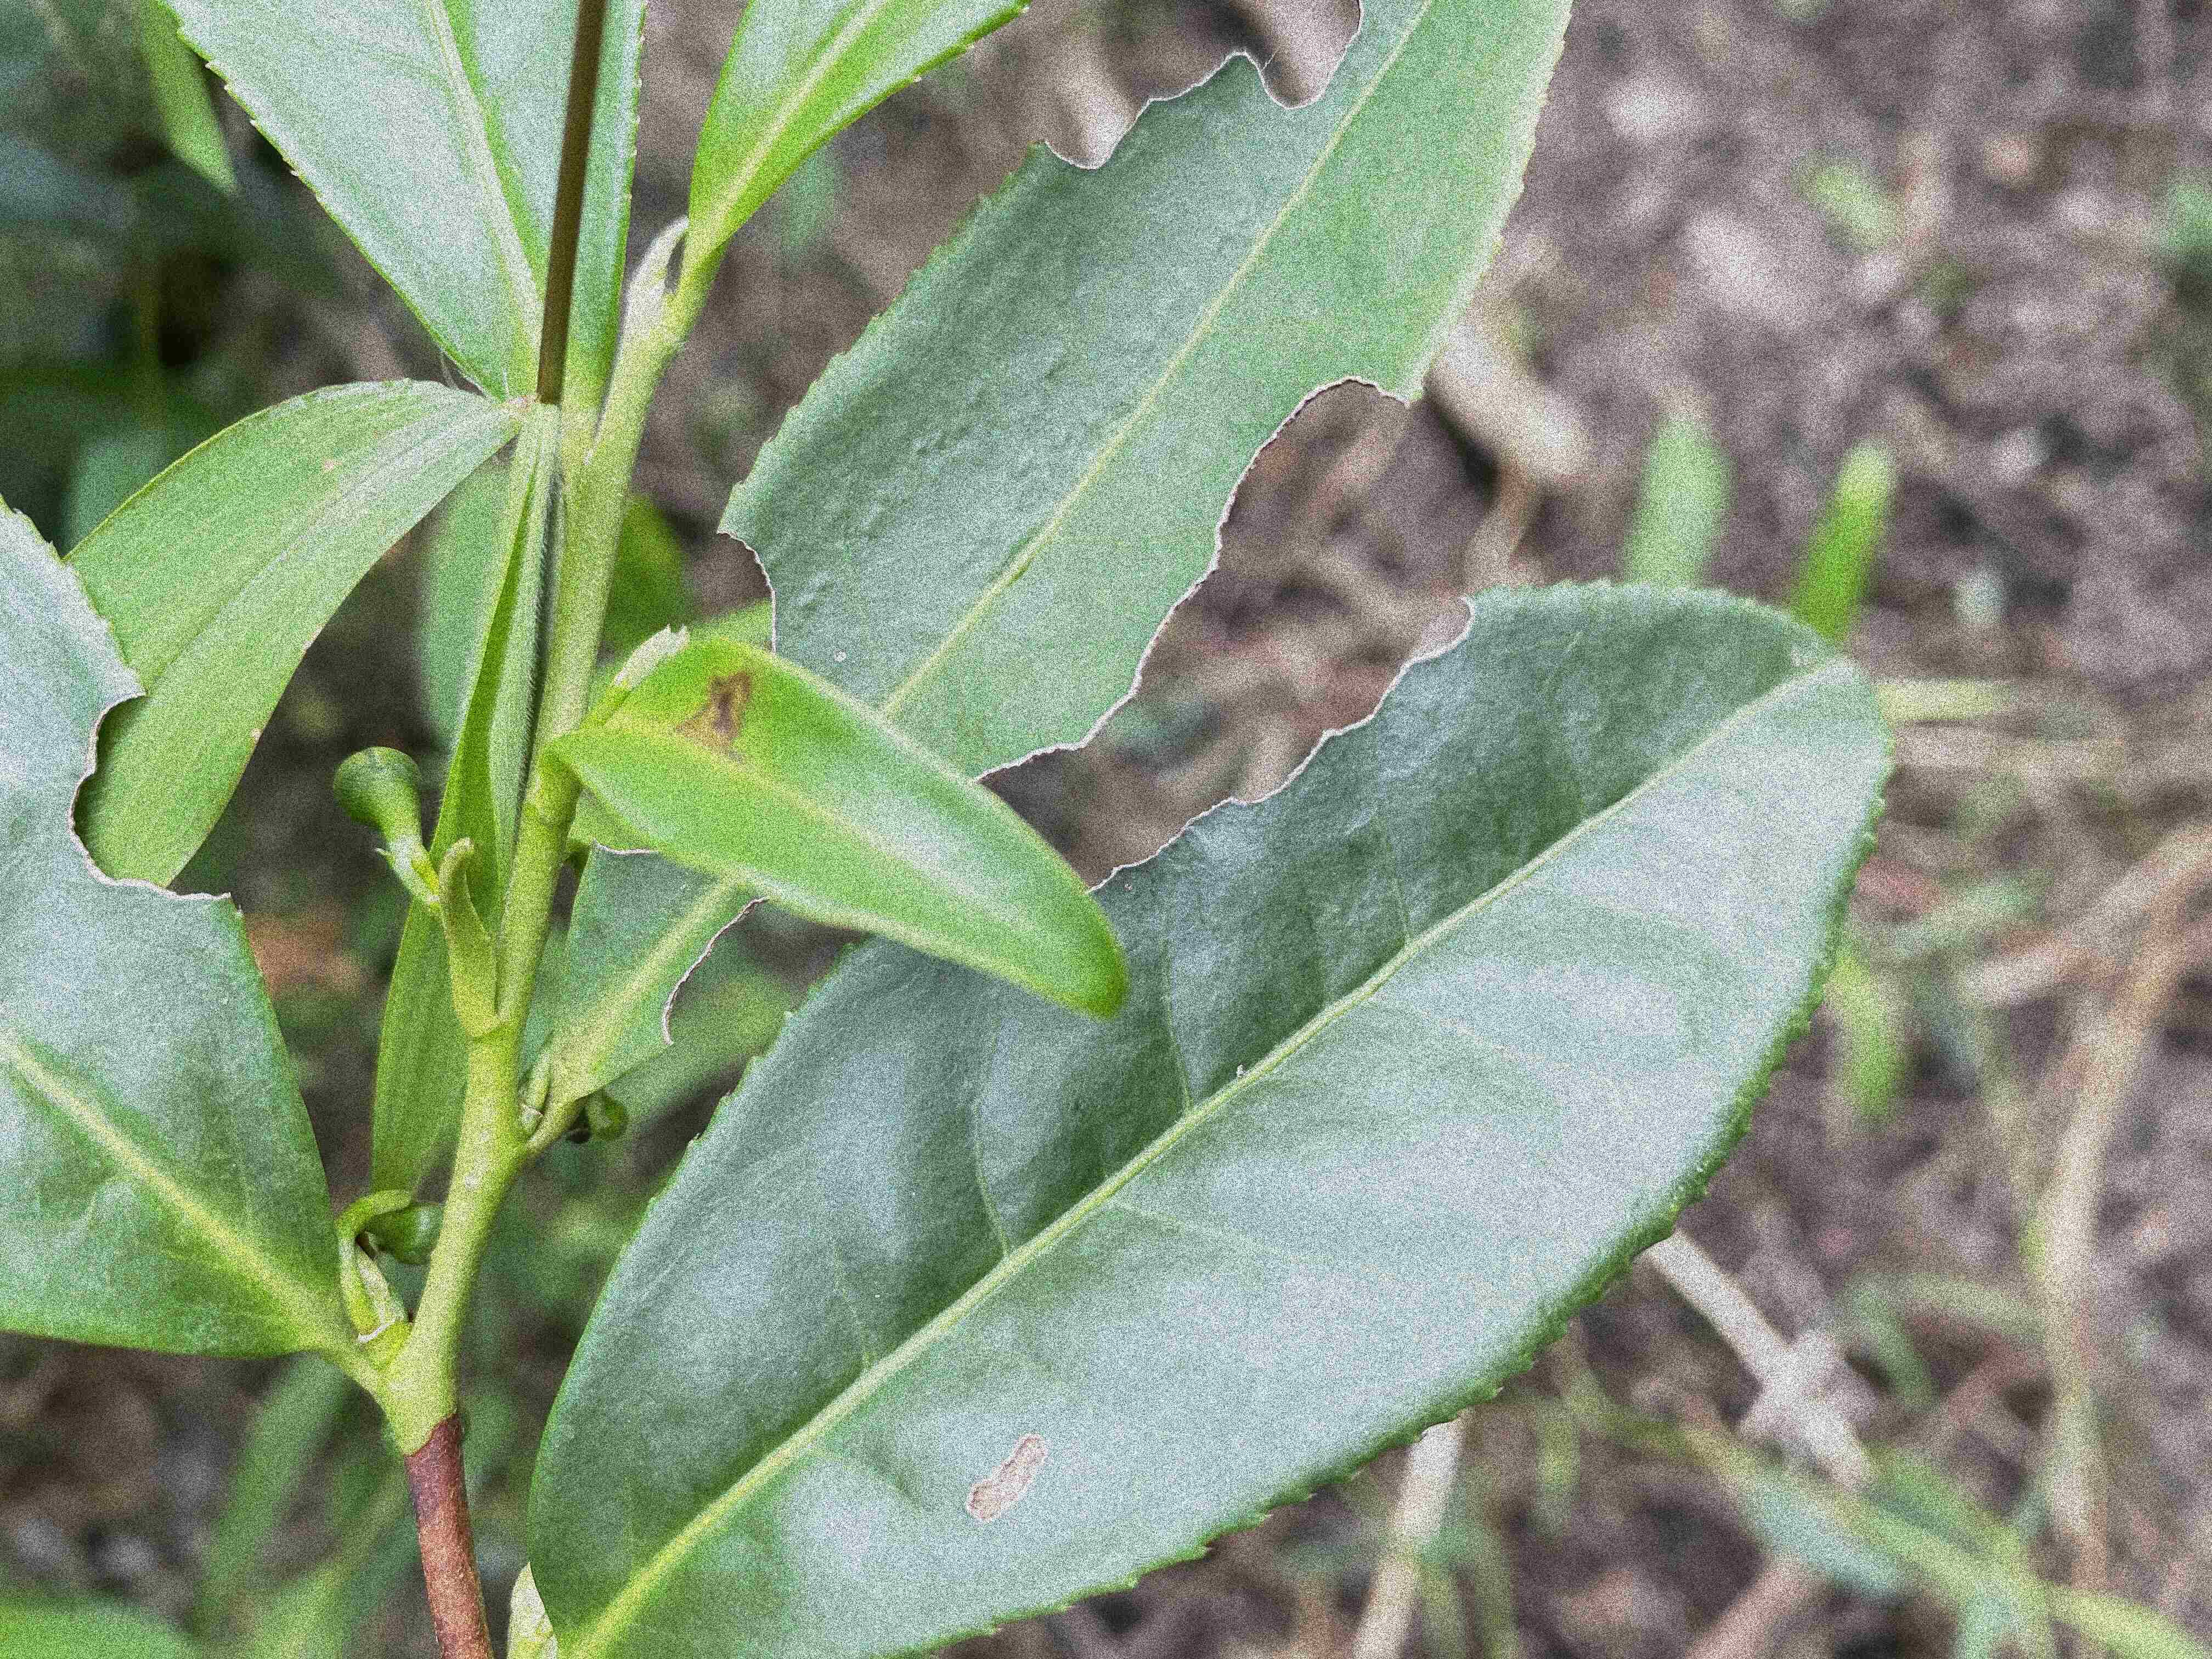chihuo_high: (549, 3, 1578, 1108)
chihuo_low: (3, 484, 345, 1361)
tanju_high: (535, 633, 1134, 1018)
